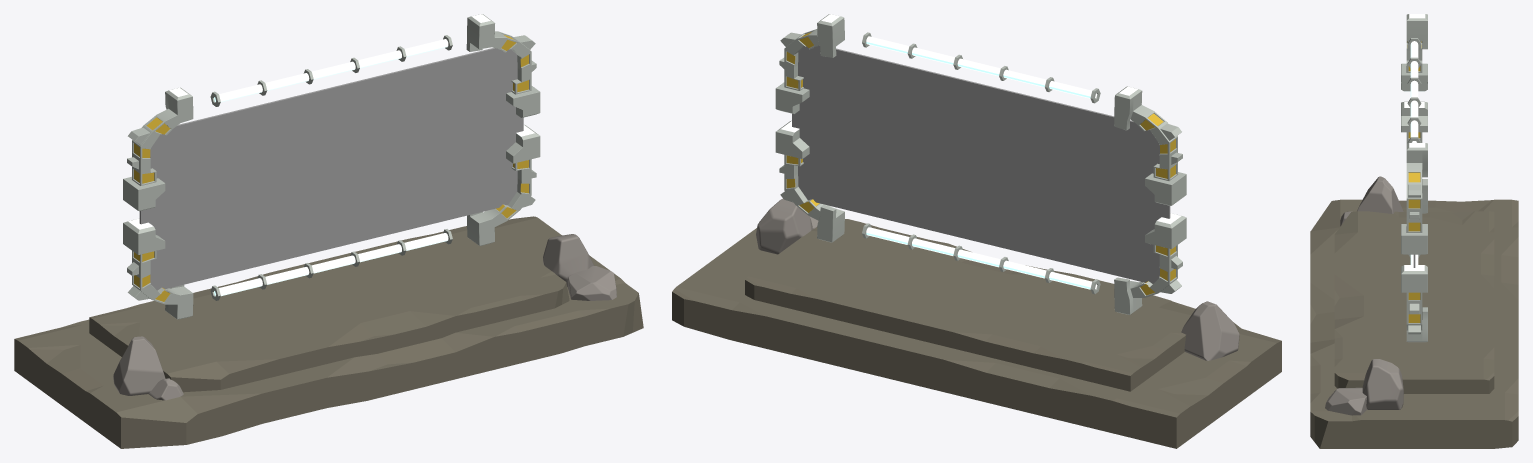
The model's file is Artefak Video & Motion Graphics [Landscape].fbx.
3 renders of one model, left to right at view 1: azimuth 30°, elevation 25°; view 2: azimuth 150°, elevation 25°; view 3: azimuth 270°, elevation 25°, orthographic. The views are drawn at different scales.
Visible parts, largest first — view 1: Poster_Landscape_PHN; view 2: Poster_Landscape_PHN; view 3: Poster_Landscape_PHN.
Boxes of the visible parts, x1,y1,x2,y2 form: Poster_Landscape_PHN: (14,14,643,448); Poster_Landscape_PHN: (672,14,1281,448); Poster_Landscape_PHN: (1310,14,1518,448).
Size of the model in its own units: 4624 by 2525 by 1849.
